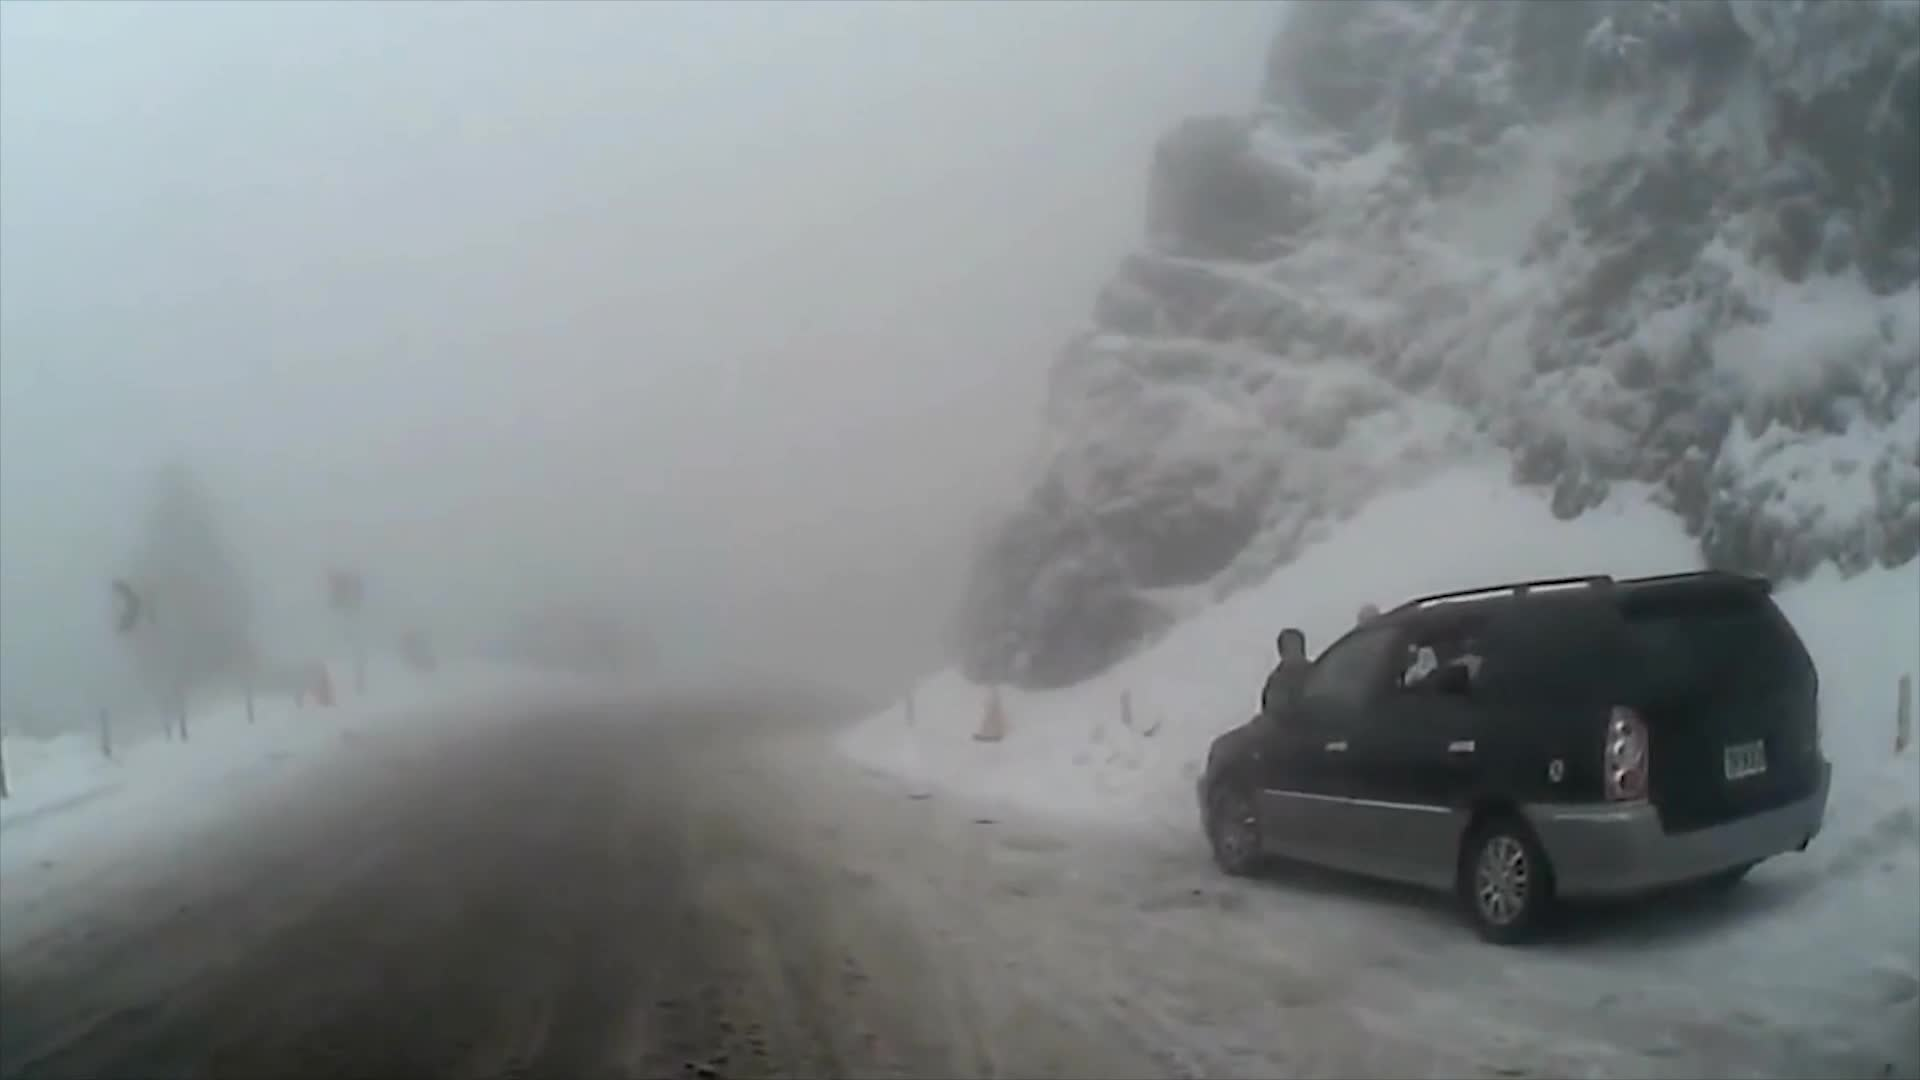pedestrian: (1258, 625, 1321, 835)
vehicle: (1190, 565, 1816, 944)
